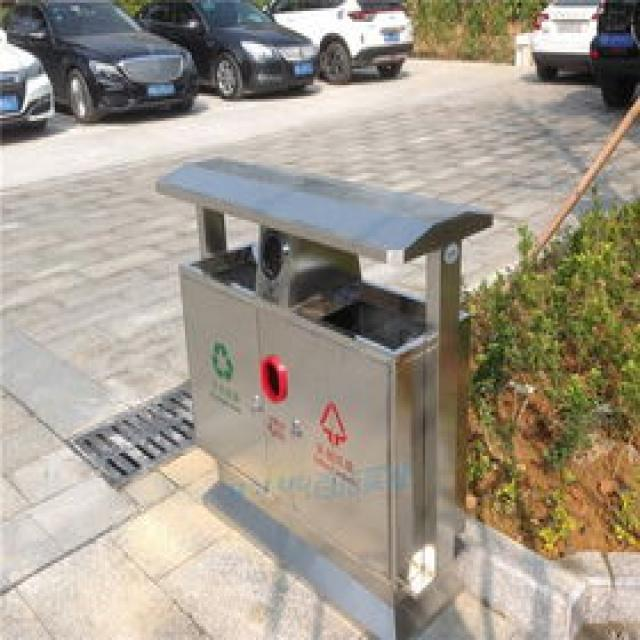garbage_bin: (156, 154, 492, 637)
